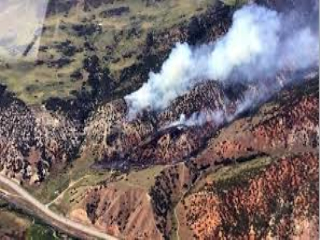smoke: (111, 21, 302, 121)
